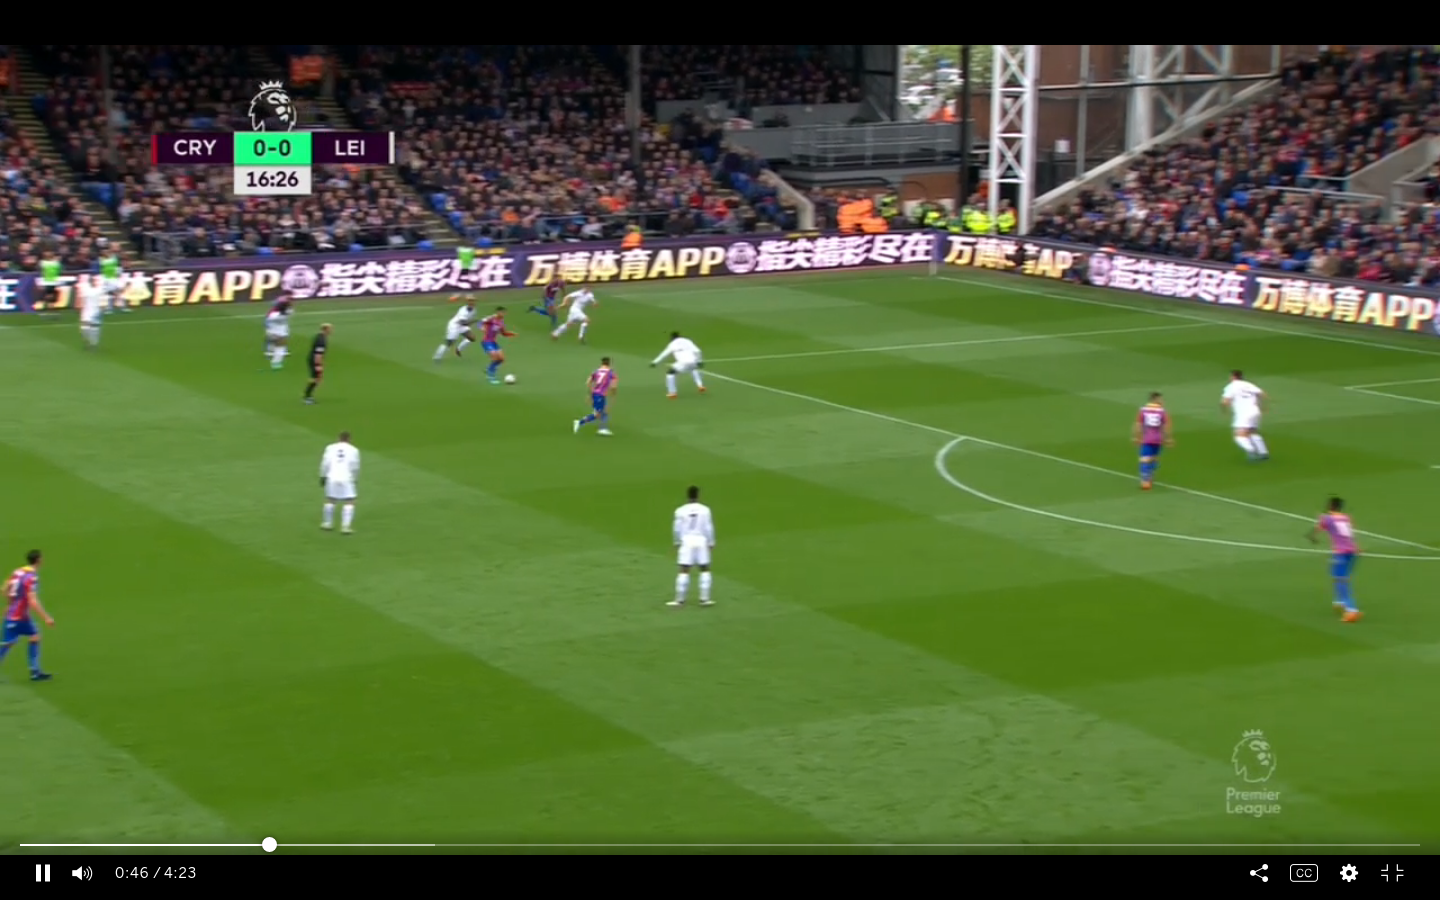referee: (305, 317, 336, 399)
soccer player: (1307, 496, 1364, 626), (665, 485, 721, 616), (1, 542, 55, 677), (1125, 388, 1182, 492), (310, 429, 367, 532), (1213, 369, 1270, 463), (568, 354, 624, 448), (647, 328, 710, 408), (433, 292, 487, 368), (476, 299, 516, 386), (262, 288, 296, 369), (76, 274, 108, 354), (528, 274, 567, 329), (564, 288, 596, 345)
soccerball: (502, 369, 518, 386)
